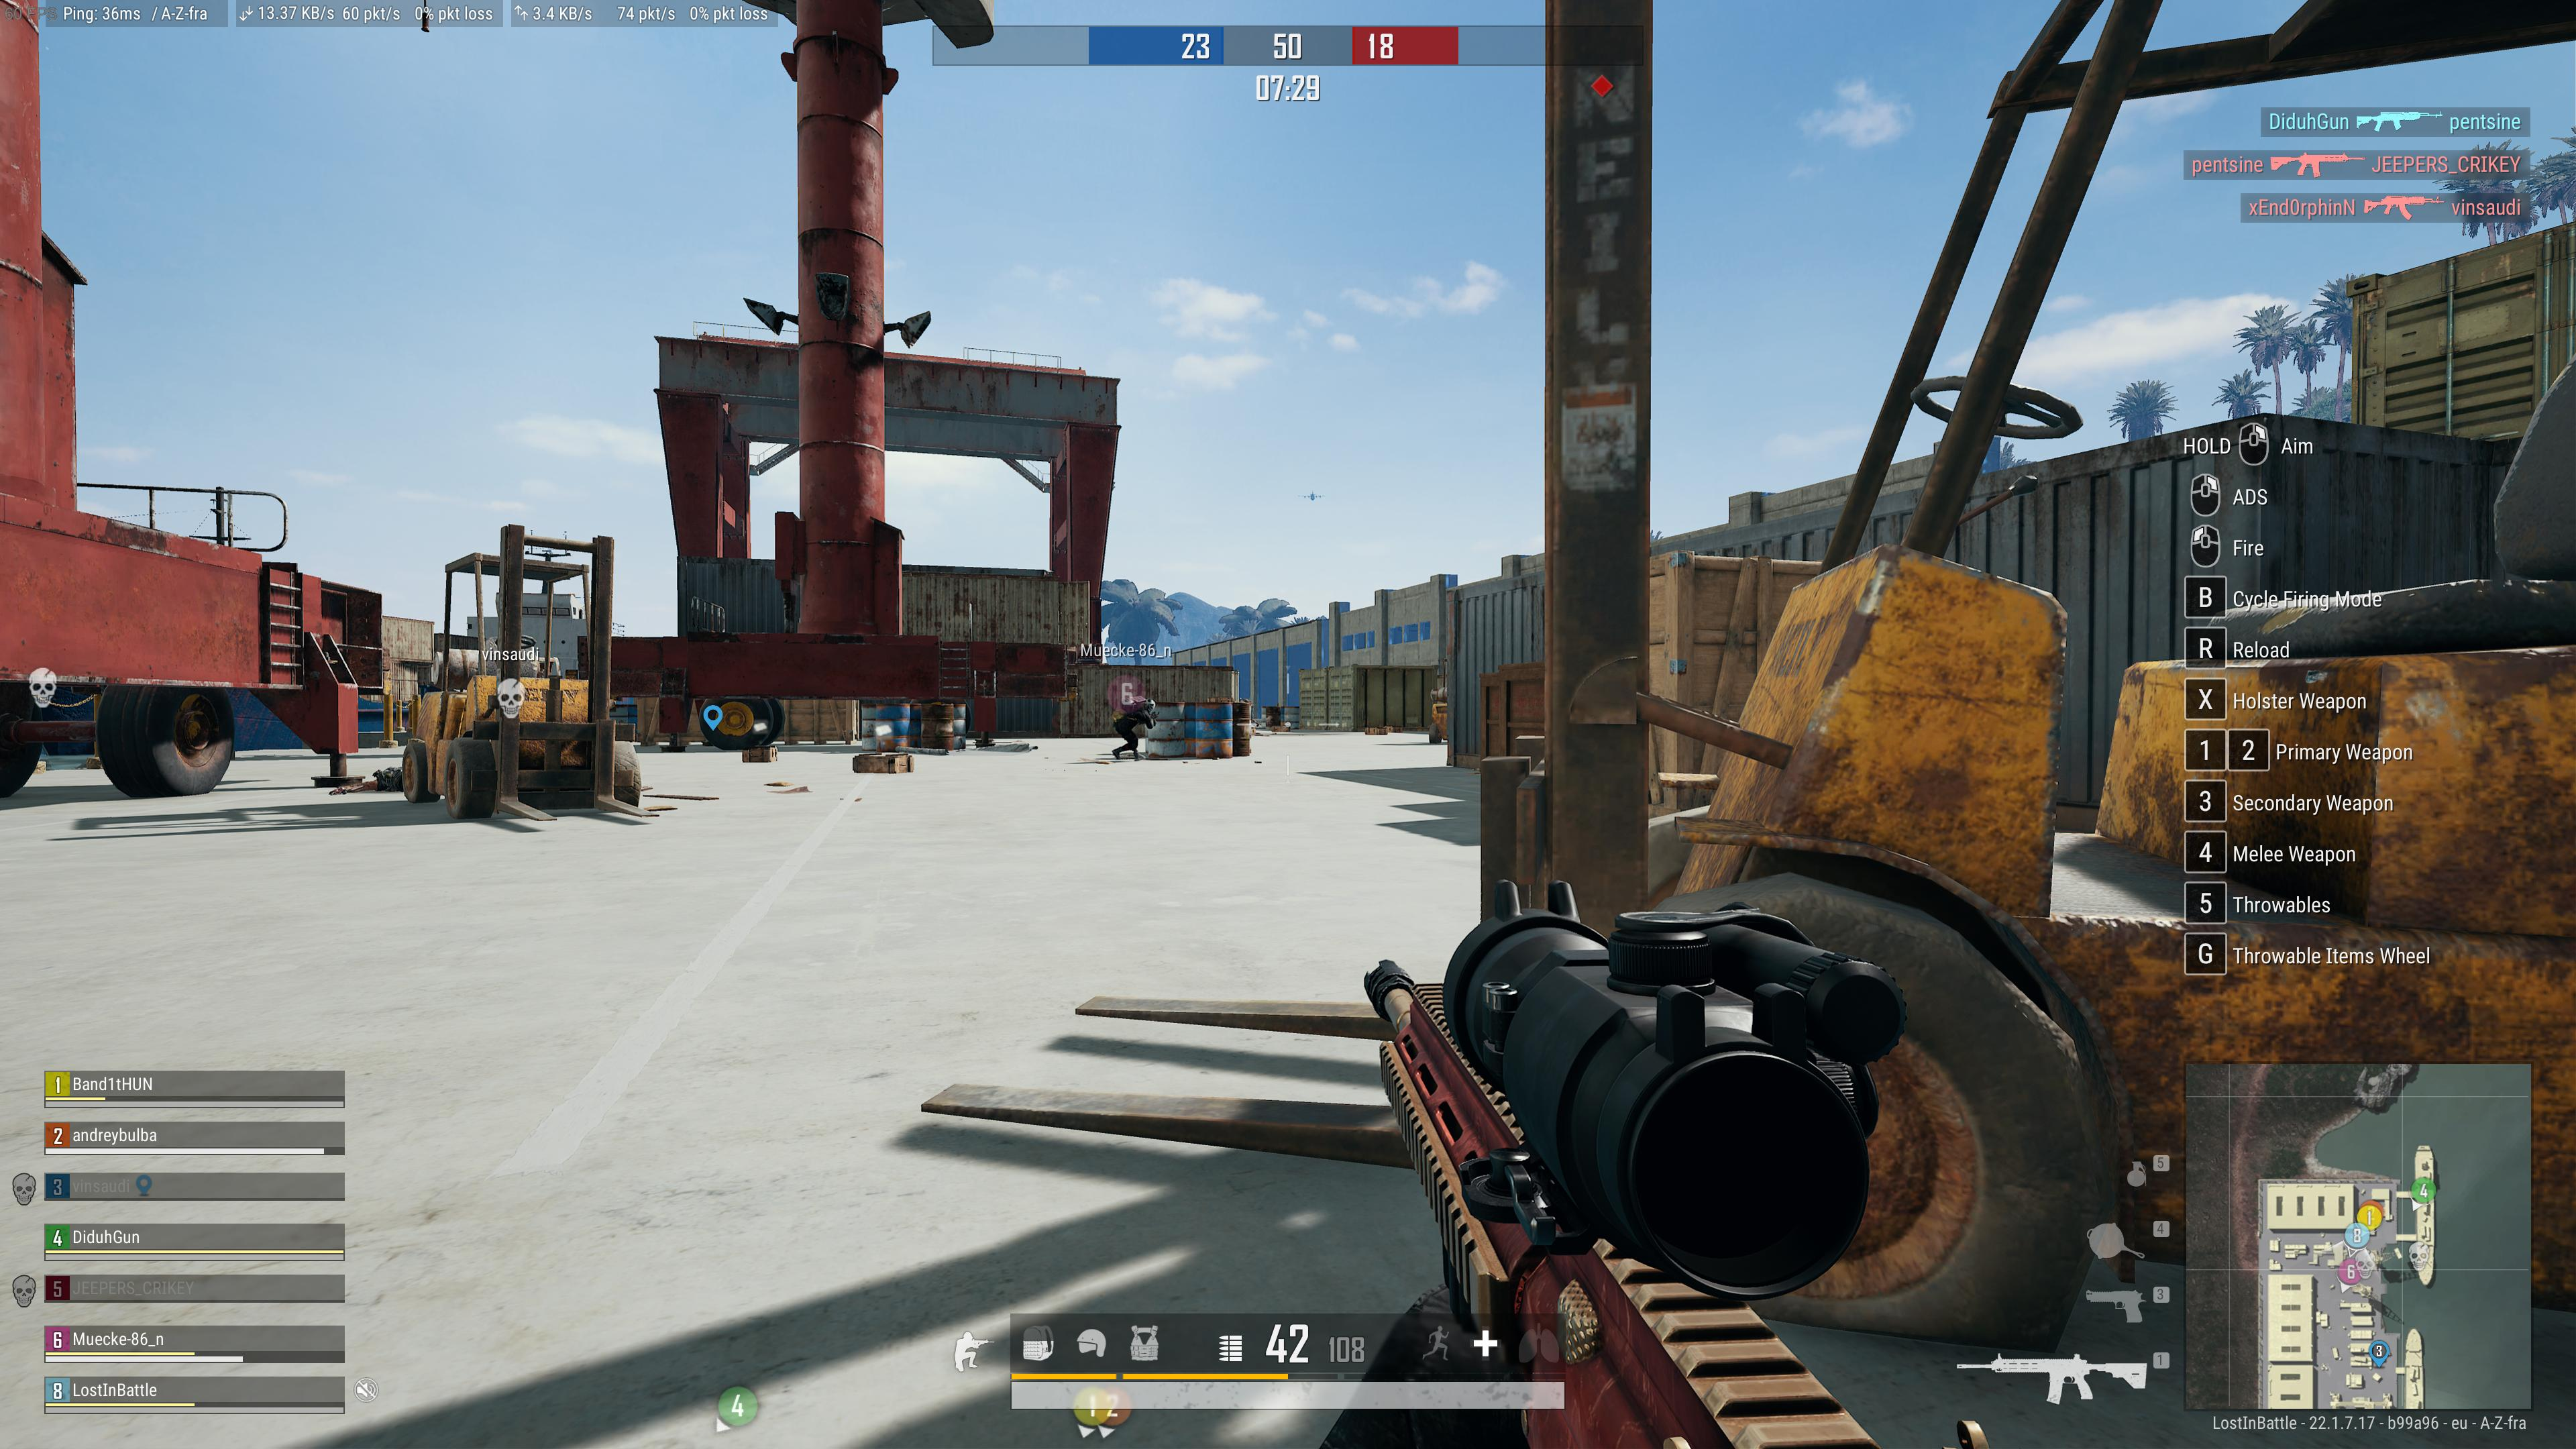friendly: (1109, 688, 1157, 761)
